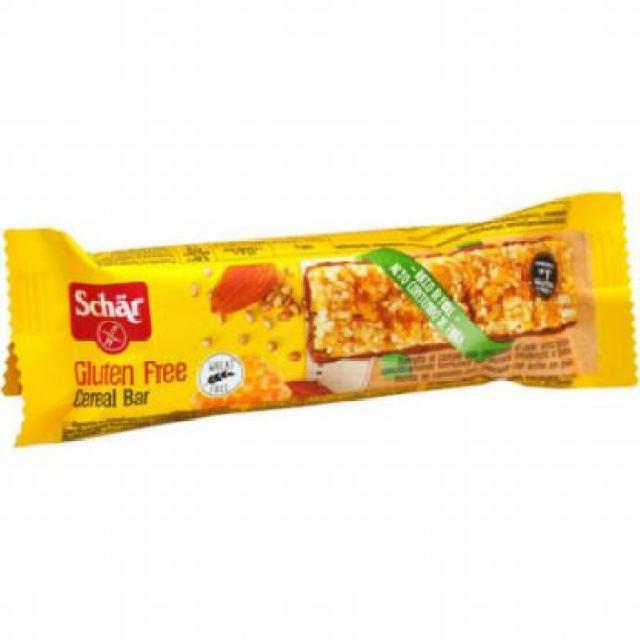Cereal bar: (3, 188, 639, 452)
